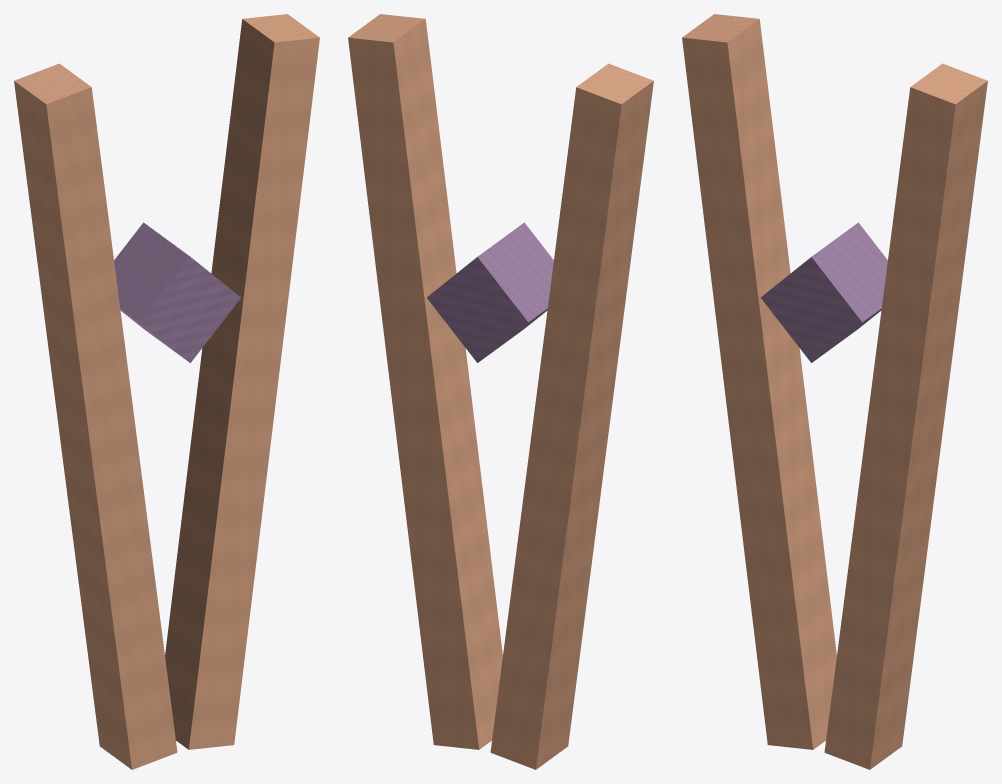
File: atlas100-s086-a05.glb
The picture shows the model from 3 angles, left to right: view 1: azimuth 30°, elevation 25°; view 2: azimuth 150°, elevation 25°; view 3: azimuth 330°, elevation 25°; orthographic projection.
Visible parts, largest first — view 1: atlas100-s086-a05:part-001, atlas100-s086-a05:part-000, atlas100-s086-a05:part-002; view 2: atlas100-s086-a05:part-001, atlas100-s086-a05:part-000, atlas100-s086-a05:part-002; view 3: atlas100-s086-a05:part-000, atlas100-s086-a05:part-001, atlas100-s086-a05:part-002.
Part boxes in pixels (x1,y1,x2,y2): atlas100-s086-a05:part-001: (165, 14, 319, 749); atlas100-s086-a05:part-000: (14, 63, 177, 769); atlas100-s086-a05:part-002: (114, 222, 241, 362); atlas100-s086-a05:part-001: (348, 14, 502, 749); atlas100-s086-a05:part-000: (490, 63, 653, 769); atlas100-s086-a05:part-002: (426, 222, 553, 362); atlas100-s086-a05:part-000: (682, 14, 836, 749); atlas100-s086-a05:part-001: (824, 63, 987, 769); atlas100-s086-a05:part-002: (760, 222, 887, 362).
Bounding box in the file's own units: 0.2936 × 0.7102 × 0.0874.
2 materials, 2 textured.
